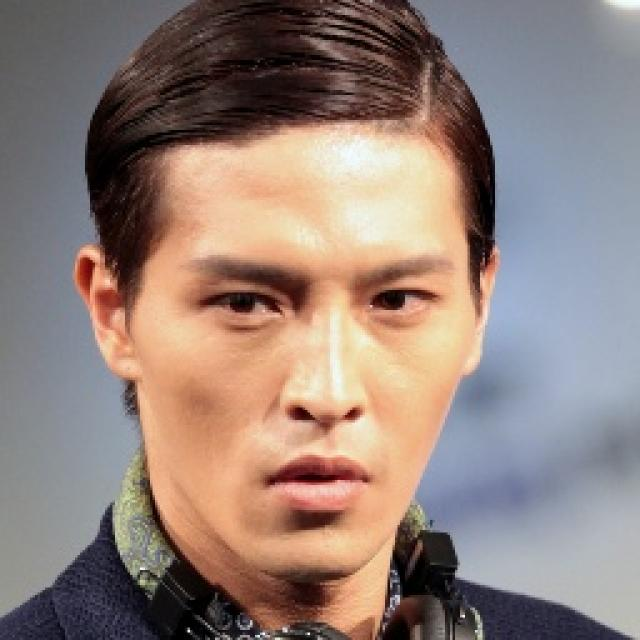earlobe: (104, 337, 140, 382), (464, 326, 486, 375)
eye: (206, 288, 283, 322), (368, 286, 432, 314)
nose: (288, 406, 362, 456)
wholeear: (72, 245, 139, 382), (464, 241, 502, 375)
